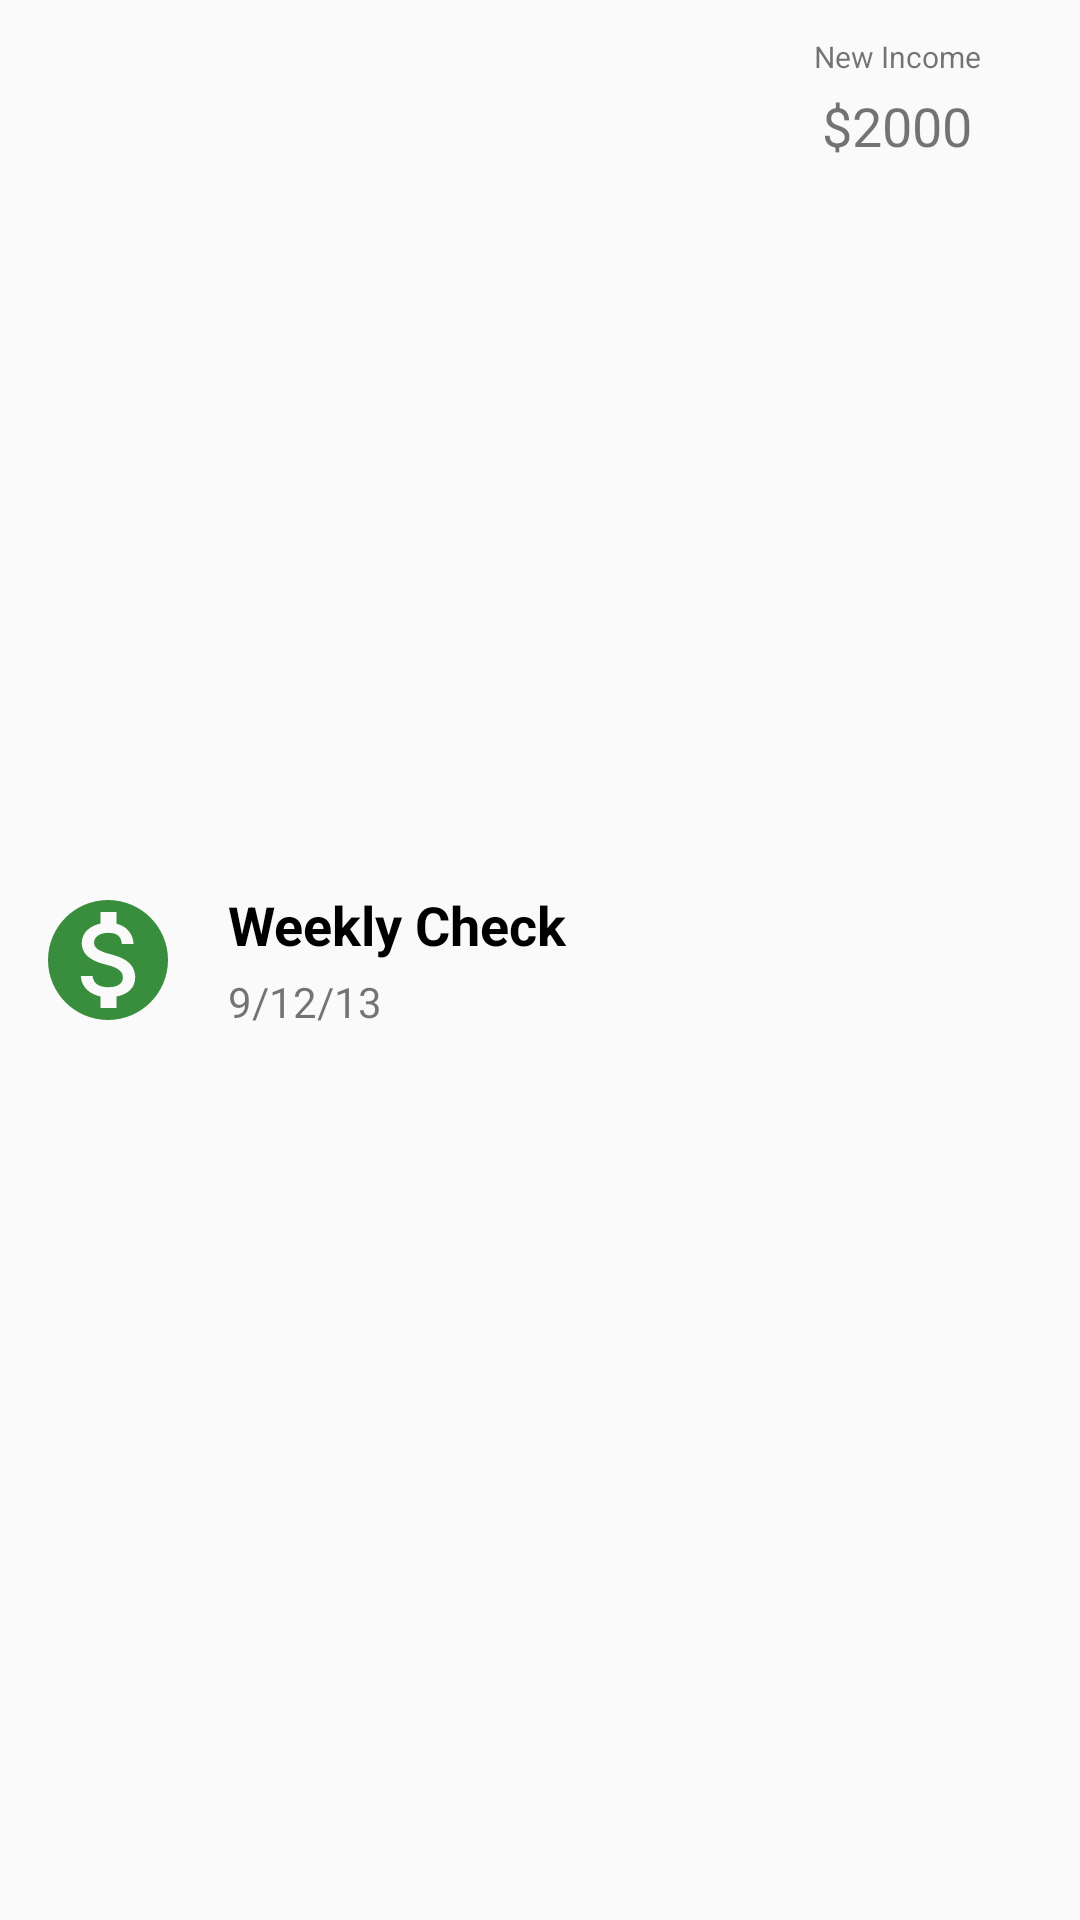

Screen size 1080w x 1920h. Icon name, then its box in pixels as (x1, y1, x2, y2):
monetization on: (48, 900, 168, 1020)
